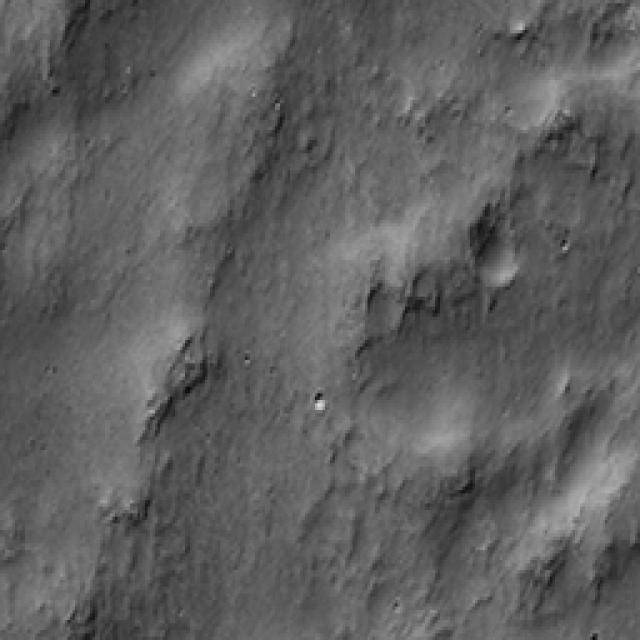Crater: (0, 100, 45, 513)
